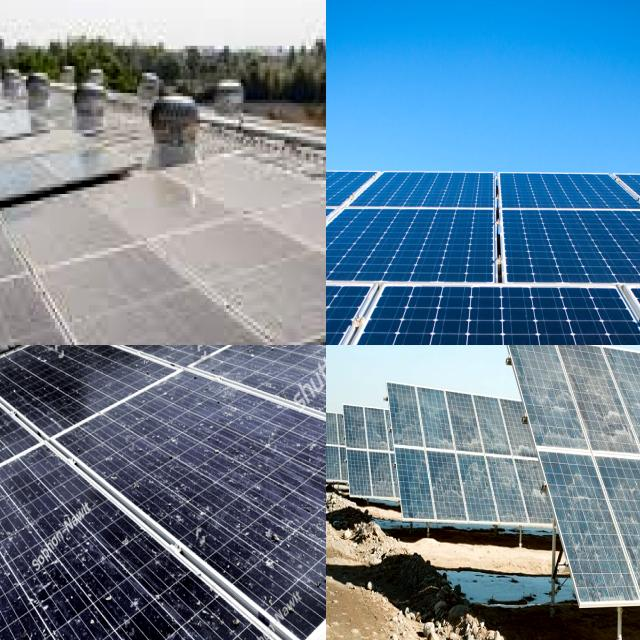bird: (190, 490, 234, 560), (256, 528, 286, 583), (0, 601, 24, 640), (0, 588, 15, 640), (100, 578, 122, 608)
crack: (326, 195, 522, 325), (486, 199, 640, 318), (351, 160, 508, 228), (486, 162, 640, 218)
dust: (398, 402, 534, 502), (231, 210, 326, 314), (577, 461, 640, 608), (530, 352, 620, 449), (85, 273, 205, 345), (346, 412, 400, 496), (326, 417, 347, 473)
